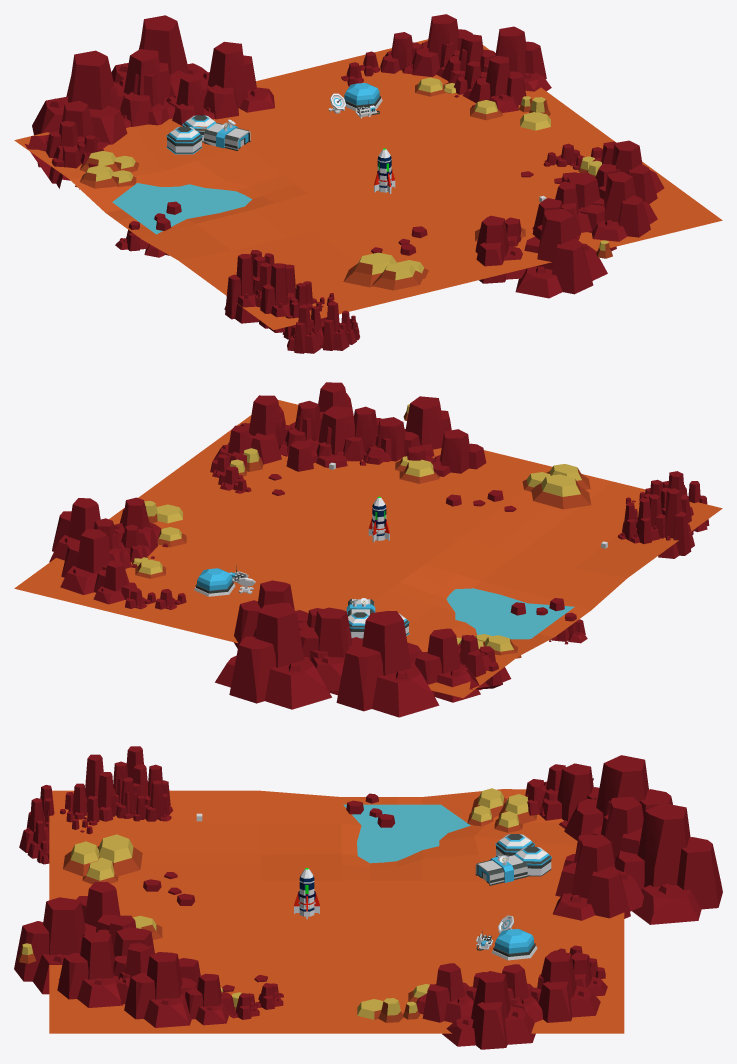
Rendered from MAP.glb.
3 views of the same model, one above another, from view 1: azimuth 30°, elevation 25°; view 2: azimuth 150°, elevation 25°; view 3: azimuth 270°, elevation 25° (orthographic). The views are drawn at different scales.
Parts seen in each view (by area): view 1: Plane, rock-b.007, crops_dirtSingle.019, Water, Base A, hangar_roundGlass.001, rocket_baseA; view 2: Plane, rock-b.007, crops_dirtSingle.019, Water, hangar_roundGlass.001, Base A, rocket_baseA; view 3: Plane, rock-b.007, crops_dirtSingle.019, Water, Base A, hangar_roundGlass.001, rocket_baseA.
Part boxes in pixels (x1=…): Plane: x1=14, y1=39, x2=722, y2=330; rock-b.007: x1=25, y1=14, x2=664, y2=353; crops_dirtSingle.019: x1=75, y1=77, x2=612, y2=290; Water: x1=112, y1=183, x2=251, y2=234; Base A: x1=166, y1=115, x2=250, y2=154; hangar_roundGlass.001: x1=344, y1=83, x2=382, y2=111; rocket_baseA: x1=374, y1=148, x2=395, y2=193; Plane: x1=14, y1=400, x2=722, y2=698; rock-b.007: x1=49, y1=382, x2=709, y2=717; crops_dirtSingle.019: x1=132, y1=404, x2=591, y2=658; Water: x1=446, y1=588, x2=574, y2=639; hangar_roundGlass.001: x1=194, y1=568, x2=235, y2=596; Base A: x1=346, y1=598, x2=409, y2=638; rocket_baseA: x1=368, y1=496, x2=389, y2=542; Plane: x1=49, y1=789, x2=624, y2=1033; rock-b.007: x1=14, y1=746, x2=722, y2=1049; crops_dirtSingle.019: x1=18, y1=788, x2=536, y2=1022; Water: x1=343, y1=804, x2=470, y2=863; Base A: x1=475, y1=834, x2=551, y2=885; hangar_roundGlass.001: x1=492, y1=929, x2=537, y2=960; rocket_baseA: x1=294, y1=868, x2=319, y2=919.
Bounding box in the file's own units: 216 × 38.22 × 251.
